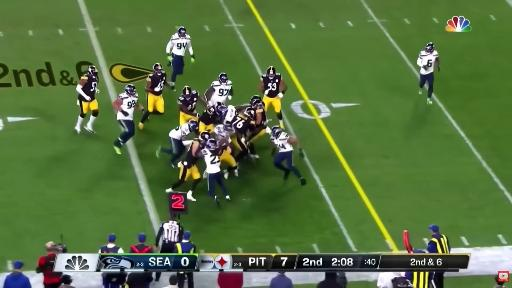Helmet: (216, 105, 227, 118), (182, 86, 193, 99), (271, 126, 282, 138), (206, 139, 218, 150), (125, 84, 136, 96), (199, 131, 210, 142), (245, 107, 255, 119), (250, 96, 262, 106), (188, 120, 198, 131), (61, 275, 72, 285), (267, 66, 276, 78), (224, 123, 234, 133), (153, 63, 162, 74), (218, 73, 227, 84), (425, 43, 434, 53), (88, 66, 97, 76), (250, 95, 261, 103), (178, 27, 186, 38), (206, 107, 216, 114), (191, 91, 198, 97), (215, 102, 223, 107), (260, 101, 265, 108)
Jersey: (166, 33, 193, 56), (117, 93, 138, 120), (182, 139, 202, 167), (210, 80, 232, 104), (417, 50, 438, 74), (261, 74, 282, 97), (147, 72, 166, 95), (203, 149, 221, 173), (81, 75, 98, 100), (272, 132, 293, 152), (231, 114, 251, 134), (169, 123, 191, 139), (199, 107, 217, 125), (178, 96, 198, 112), (214, 125, 231, 143), (224, 106, 238, 124), (256, 107, 267, 127)
Player: (166, 139, 204, 201), (271, 126, 306, 185), (113, 85, 142, 154), (139, 63, 169, 129), (157, 120, 198, 166), (203, 139, 230, 205), (166, 27, 194, 90), (260, 67, 287, 128), (75, 66, 99, 133), (227, 107, 255, 162), (417, 43, 439, 104), (248, 96, 269, 158), (214, 124, 238, 178), (205, 73, 234, 106), (178, 86, 199, 125), (199, 107, 218, 131), (222, 106, 238, 124)
